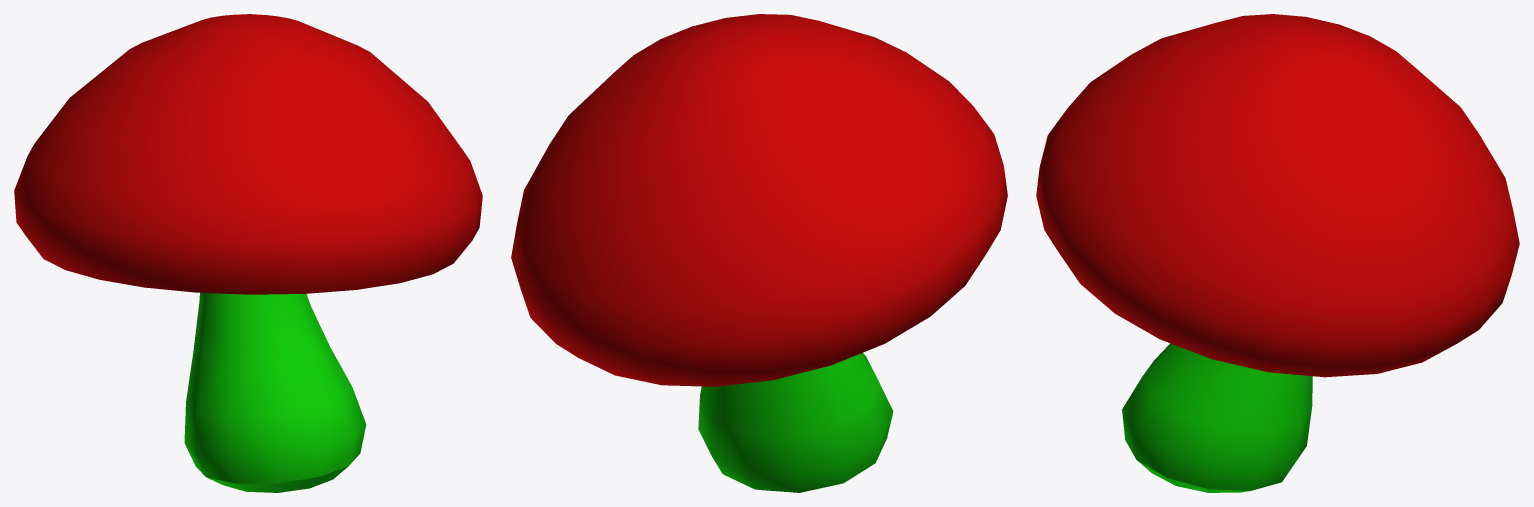
File: NormalMushRoom 1.fbx
3 views of the same model, side by side, from view 1: azimuth 30°, elevation 25°; view 2: azimuth 150°, elevation 25°; view 3: azimuth 270°, elevation 25° (orthographic). The views are drawn at different scales.
Visible parts, largest first — view 1: Circle.001; view 2: Circle.001; view 3: Circle.001.
Boxes of the visible parts, x1,y1,x2,y2 form: Circle.001: (14, 14, 482, 492); Circle.001: (511, 14, 1007, 492); Circle.001: (1036, 14, 1519, 492).
Size of the model in its own units: 117 by 117 by 117.
